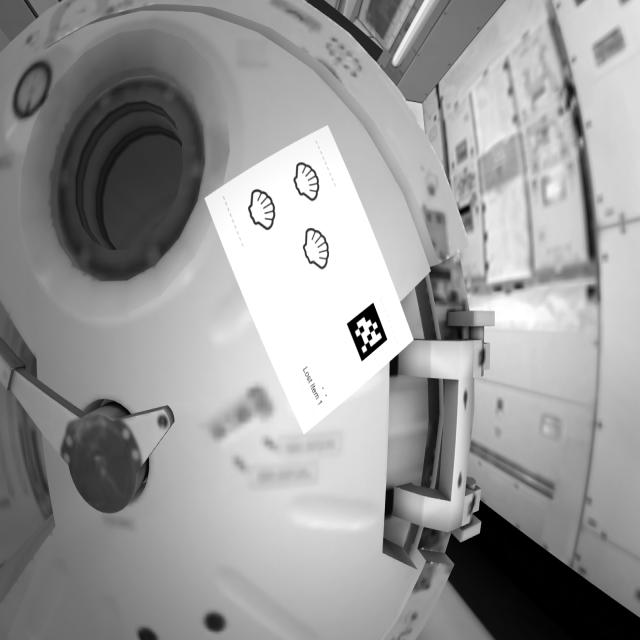shell: (244, 186, 280, 232), (291, 161, 324, 206), (302, 225, 332, 271)
